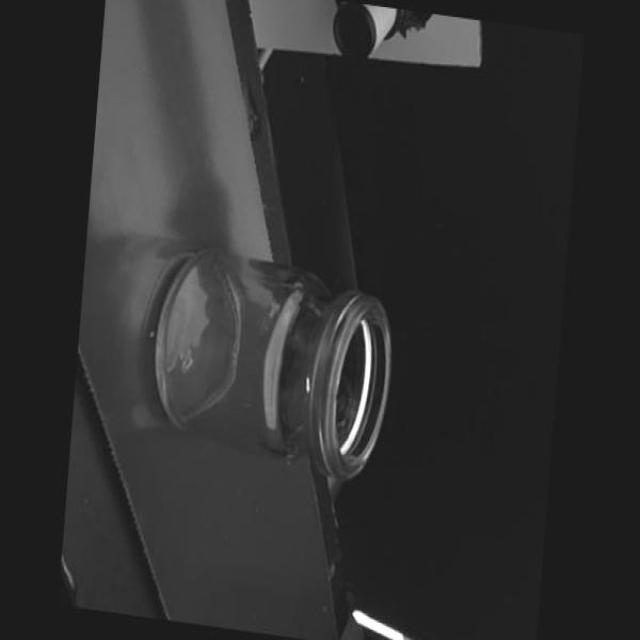defect: (302, 376, 309, 395)
glass: (147, 248, 396, 487)
